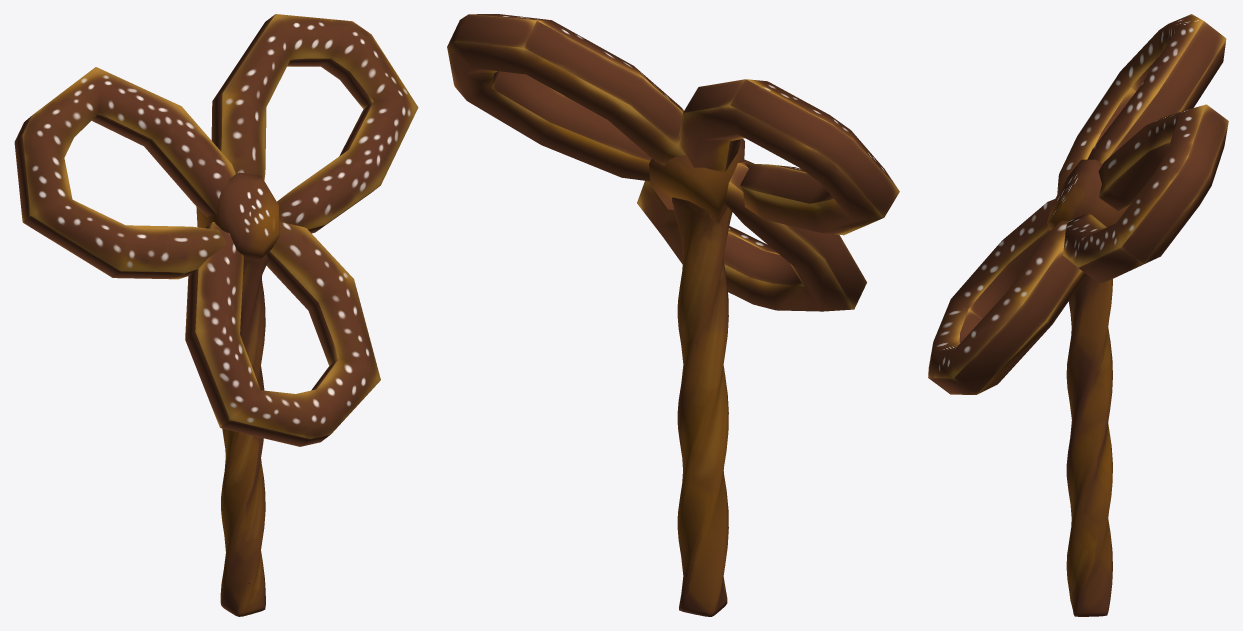
Rendered from pogflowa.fbx.
3 views of the same model, side by side, from view 1: azimuth 30°, elevation 25°; view 2: azimuth 150°, elevation 25°; view 3: azimuth 270°, elevation 25° (orthographic). The views are drawn at different scales.
Visible parts, largest first — view 1: Cylinder.002, Cylinder.001, Cylinder, Cube, Cube.001; view 2: Cylinder, Cylinder.002, Cube, Cylinder.001, Cube.001; view 3: Cylinder, Cylinder.001, Cube, Cylinder.002, Cube.001.
Part boxes in pixels (box(x1,y1,x2,y2)): Cylinder.002: box(14, 67, 235, 279); Cylinder.001: box(185, 221, 380, 446); Cylinder: box(211, 14, 418, 233); Cube: box(220, 254, 268, 616); Cube.001: box(196, 172, 279, 259); Cylinder: box(447, 14, 686, 181); Cylinder.002: box(679, 79, 899, 235); Cube: box(672, 197, 732, 616); Cylinder.001: box(637, 159, 866, 311); Cube.001: box(649, 139, 744, 222); Cylinder: box(1063, 104, 1228, 284); Cylinder.001: box(928, 199, 1086, 394); Cube: box(1066, 275, 1112, 616); Cylinder.002: box(1057, 14, 1226, 194); Cube.001: box(1047, 159, 1129, 230).
Bounding box in the file's own units: 475 × 631 × 312.
Materials: 3 (3 with a texture image).
